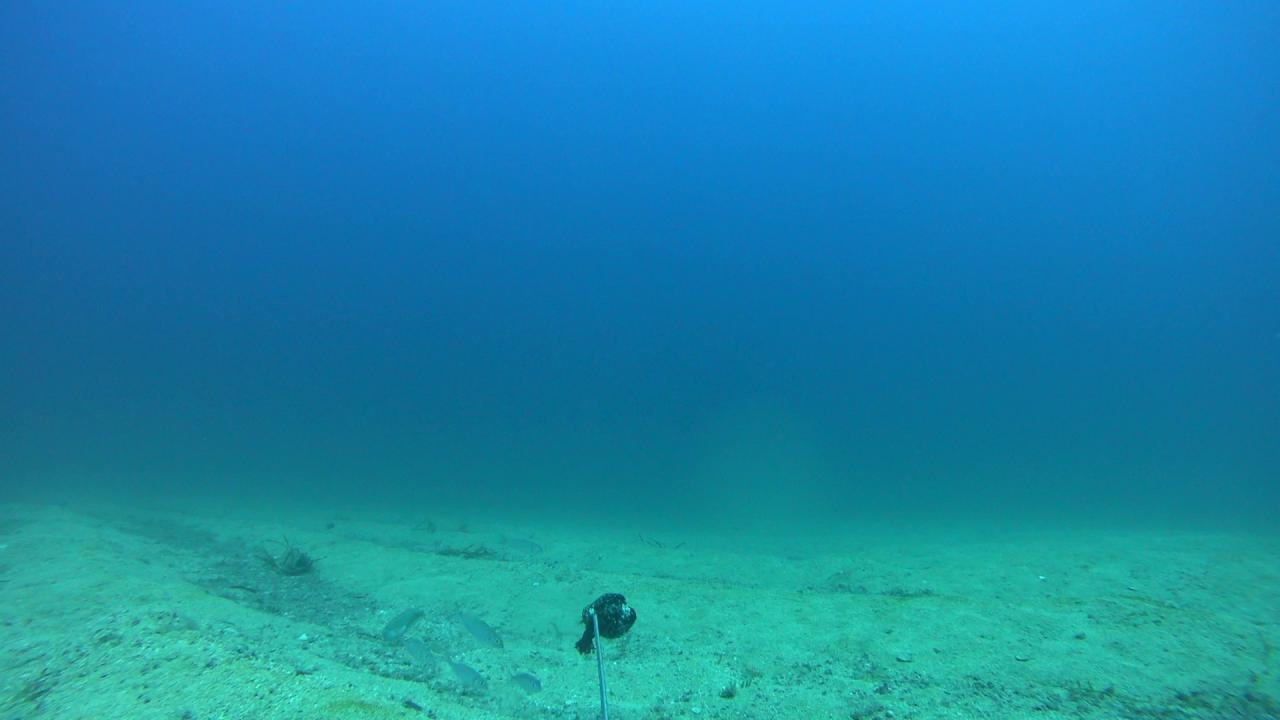pagellus: (448, 603, 501, 650), (438, 650, 488, 690), (394, 631, 434, 663), (500, 530, 542, 552), (507, 666, 538, 694)
